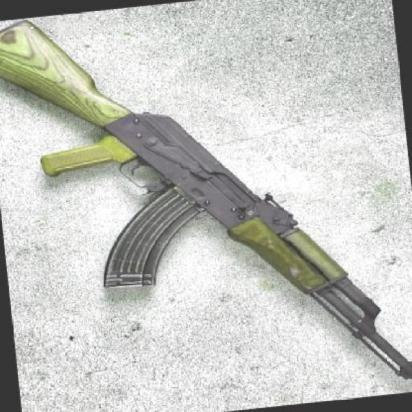Gun: (0, 0, 412, 407)
